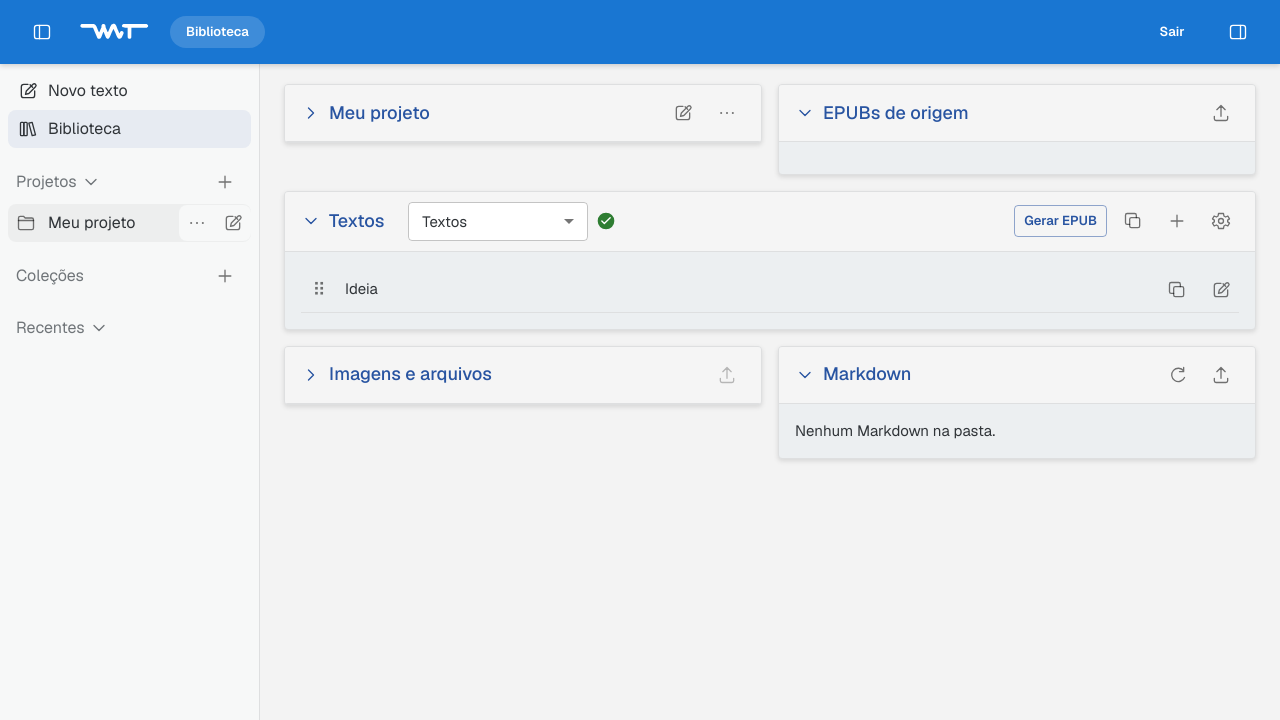
keeps identity accessible and copies the ordered Markdown from Texts
Expected: the heading "Meu projeto" is shown, [329,101,430,125]
Expected: the button named "Editar informações" is shown, [665,95,701,131]
Click the button named "Copiar todos os textos".
click(1133, 221)  # box [1115,203,1151,239]
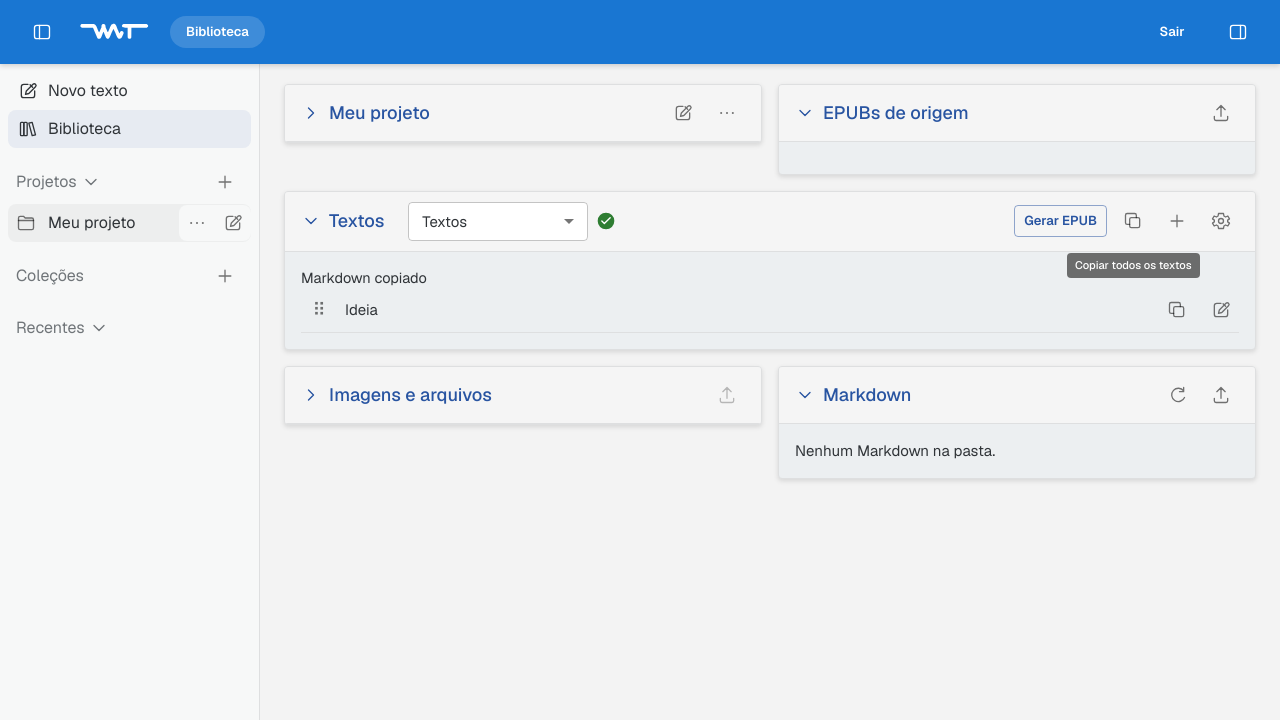
Now the message reads "Markdown copiado", box [301,268,427,287]
